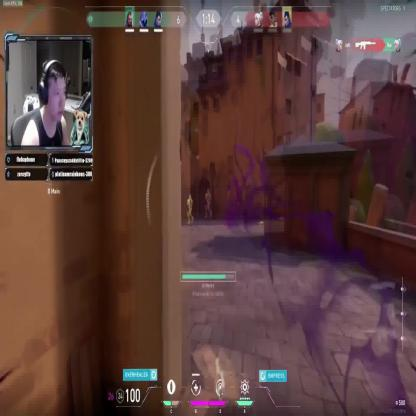enemy: (204, 188, 212, 218), (187, 194, 194, 225)
enemy_head: (206, 188, 210, 194), (189, 194, 191, 199)
